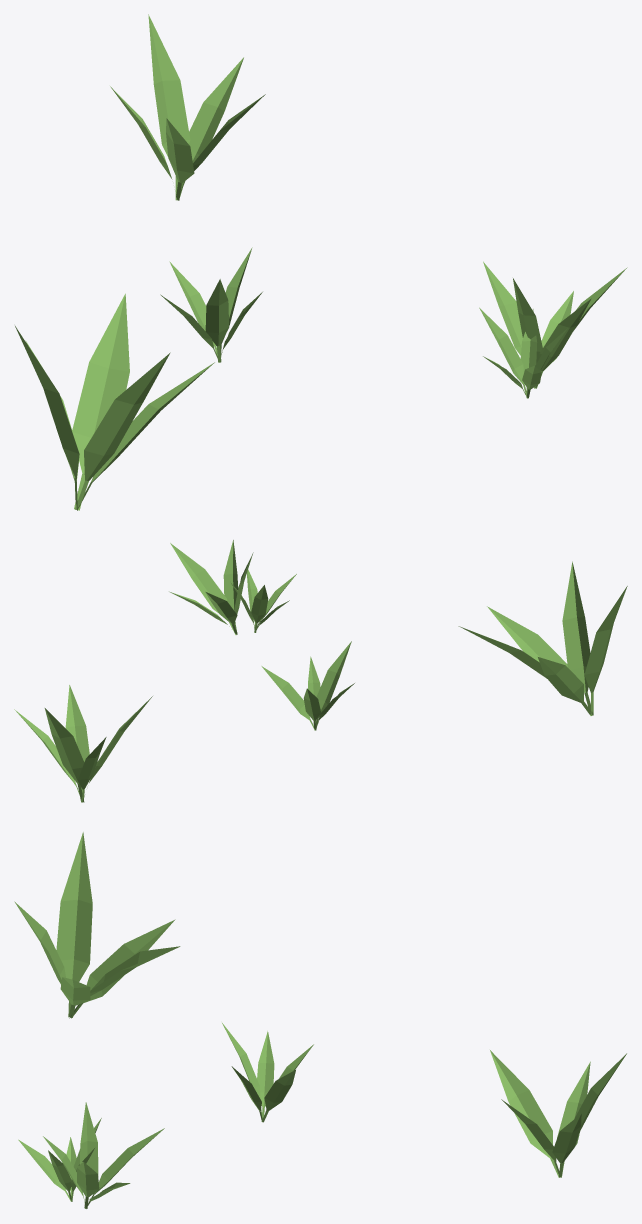
The model's file is Grass04.fbx.
3 views of the same model, one above another, from view 1: azimuth 30°, elevation 25°; view 2: azimuth 150°, elevation 25°; view 3: azimuth 270°, elevation 25° (orthographic). The views are drawn at different scales.
Parts seen in each view (by area): view 1: Circle.563; view 2: Circle.563; view 3: Circle.563.
Boxes of the visible parts, left/top/right/bottom form: Circle.563: left=15, top=14, right=627, bottom=510; Circle.563: left=14, top=540, right=627, bottom=802; Circle.563: left=14, top=832, right=626, bottom=1208.
Size of the model in its own units: 68.91 by 20.91 by 70.96.
